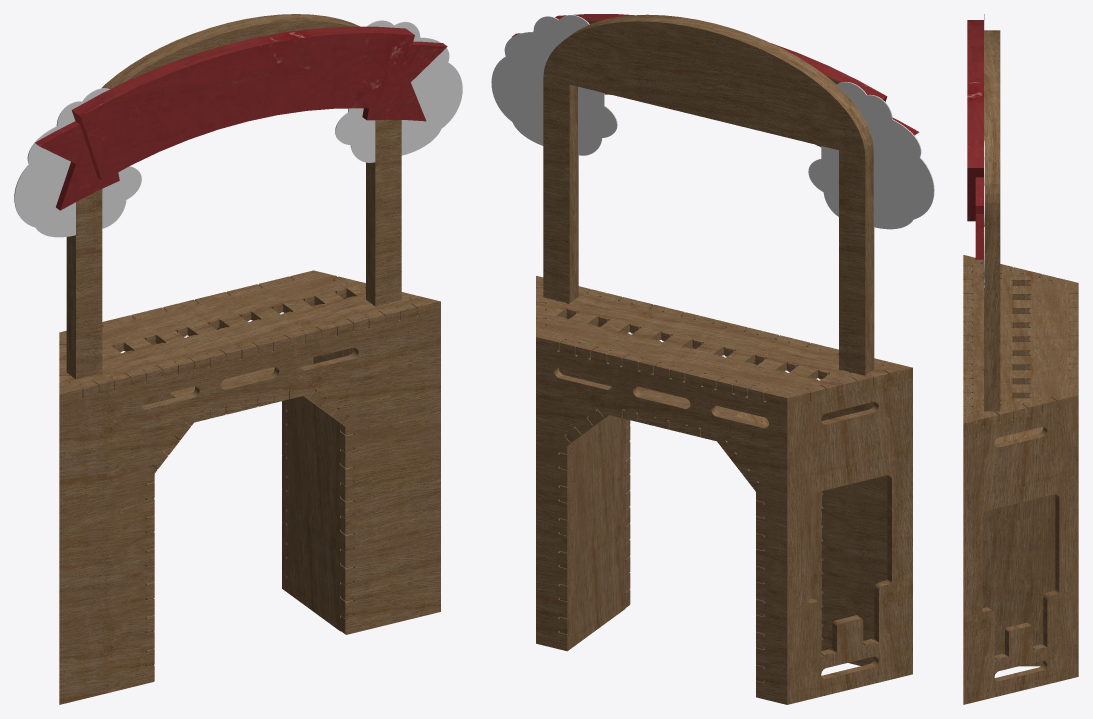
File: puppet.glb
3 renders of one model, left to right at view 1: azimuth 30°, elevation 25°; view 2: azimuth 150°, elevation 25°; view 3: azimuth 270°, elevation 25°, orthographic. The views are drawn at different scales.
Parts seen in each view (by area): view 1: Assem62; view 2: Assem62; view 3: Assem62.
Part boxes in pixels (box(x1,y1,x2,y2)): Assem62: box(14, 14, 462, 704); Assem62: box(491, 14, 934, 704); Assem62: box(963, 14, 1078, 704).
Size of the model in its own units: 1.07 by 1.42 by 0.2639.
Materials: 3 (2 with a texture image).
